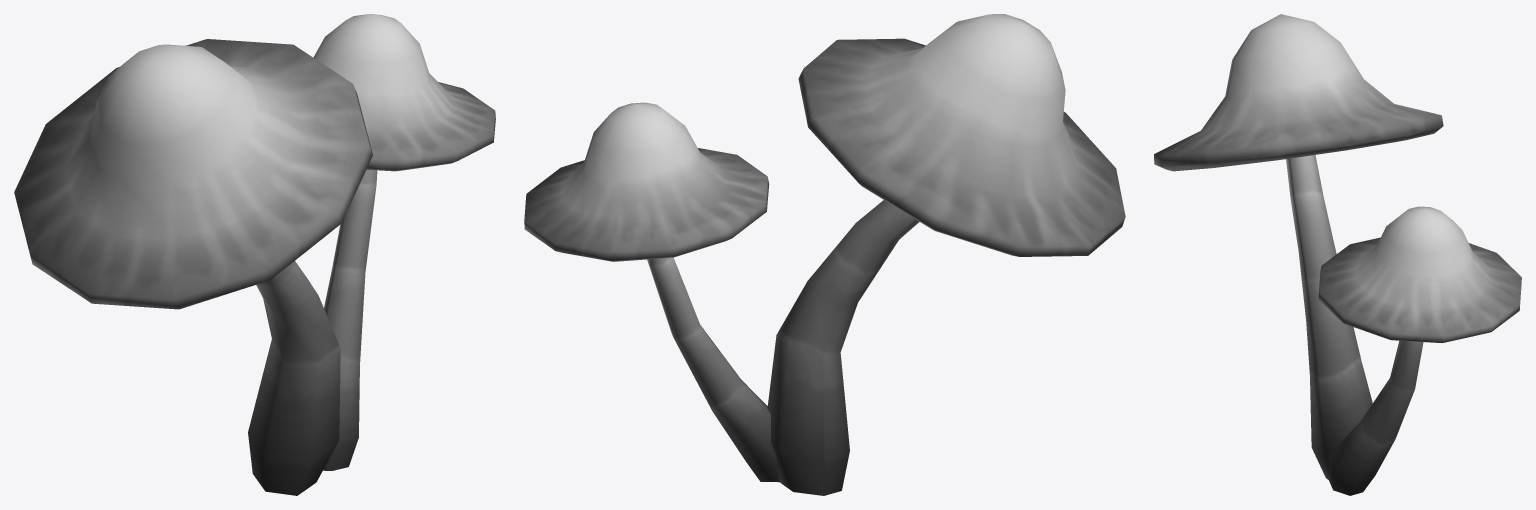
Rendered from Cave mushroom largeB.FBX.
3 views of the same model, side by side, from view 1: azimuth 30°, elevation 25°; view 2: azimuth 150°, elevation 25°; view 3: azimuth 270°, elevation 25° (orthographic). The views are drawn at different scales.
Visible parts, largest first — view 1: Object014; view 2: Object014; view 3: Object014.
Part boxes in pixels (<box>): Object014: <box>14,14,495,495</box>; Object014: <box>524,14,1125,495</box>; Object014: <box>1154,14,1521,495</box>.
Size of the model in its own units: 4.6 by 4.29 by 3.6.
